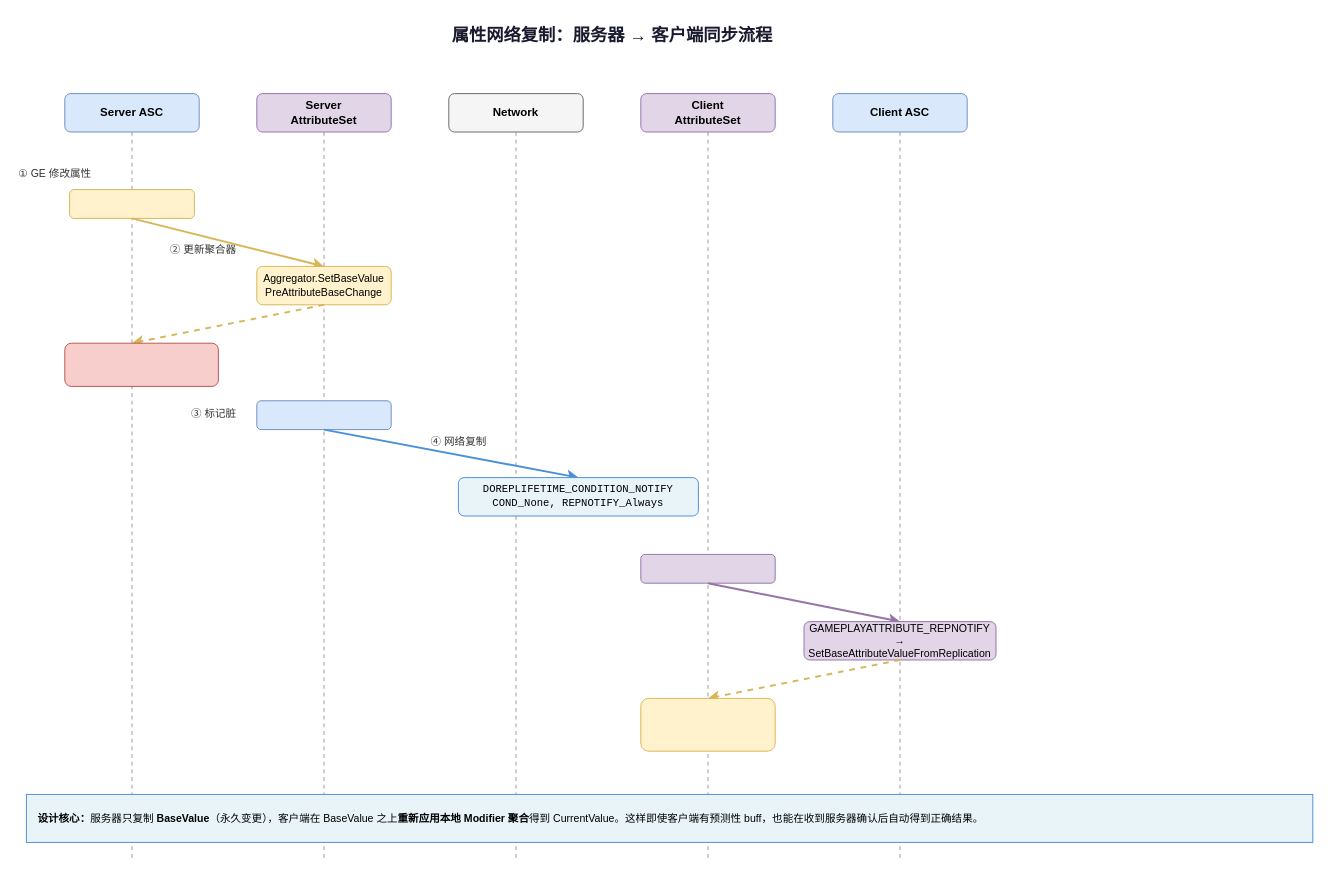
Some shapes in this 1330 by 879 pixel diagram are drawn without their labels. Each missing label, with the box of its shape:
Evaluate → CurrentValue PreAttributeChange → PostAttributeChange: (64, 342, 218, 386)
MARK_PROPERTY_DIRTY: (256, 400, 391, 430)
OnRep_Health(OldValue): (640, 553, 775, 583)
SetNumericAttributeBase: (69, 189, 194, 218)
⑤ 客户端重聚合 BaseValue + 预测性 Mods = 最终 CurrentValue: (640, 697, 775, 751)
